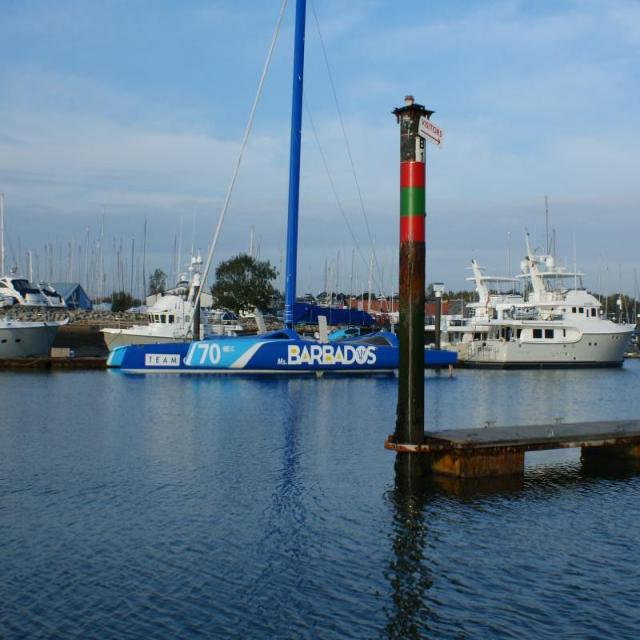buoy: (381, 76, 452, 496)
